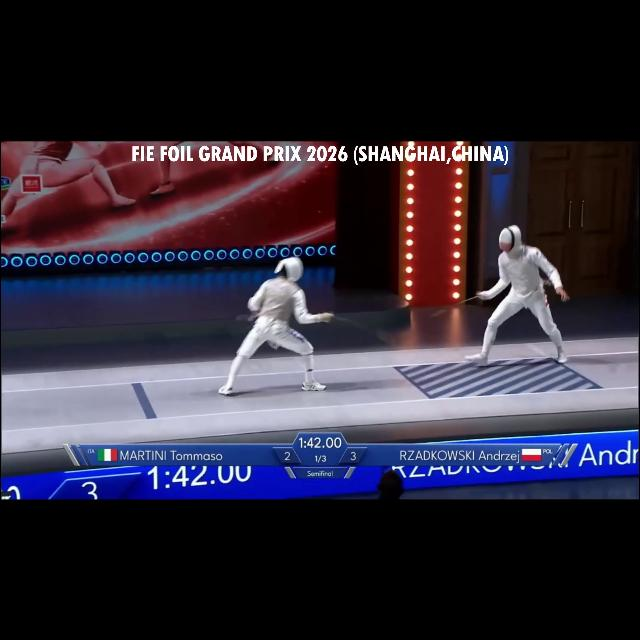blade: (317, 308, 398, 352), (430, 292, 492, 322)
